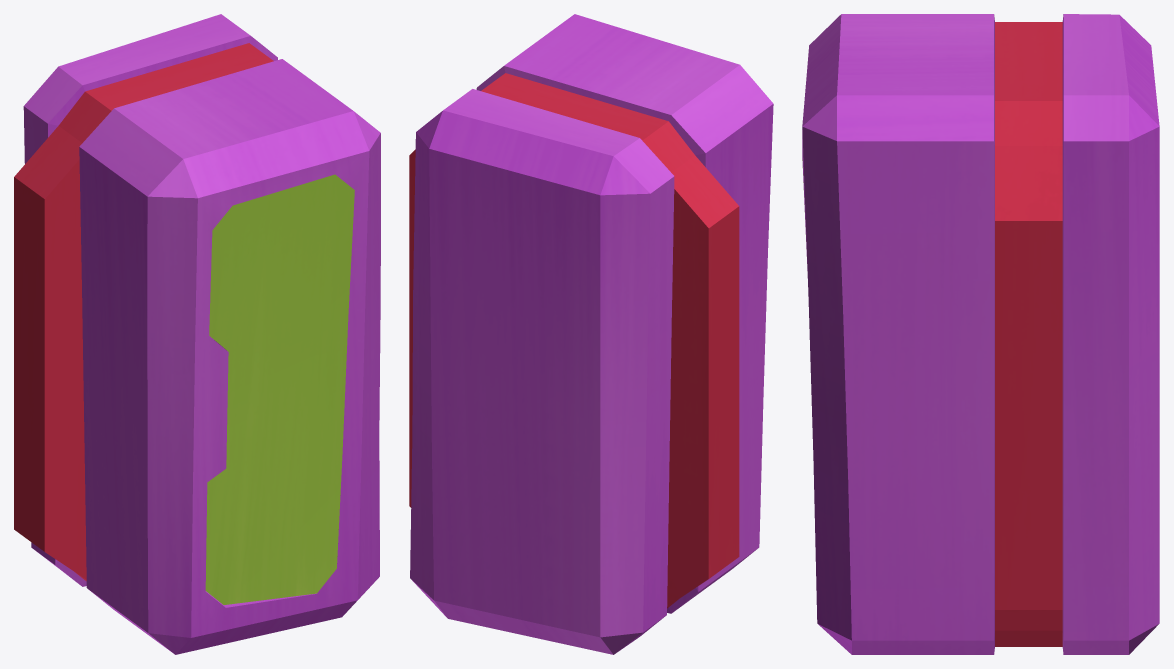
File: Toilet.fbx
3 renders of one model, left to right at view 1: azimuth 30°, elevation 25°; view 2: azimuth 150°, elevation 25°; view 3: azimuth 270°, elevation 25°, orthographic. The views are drawn at different scales.
Parts seen in each view (by area): view 1: Toilet, Toiletdoor; view 2: Toilet; view 3: Toilet.
Part boxes in pixels (x1=…): Toilet: x1=14, y1=14, x2=380, y2=654; Toiletdoor: x1=205, y1=174, x2=354, y2=604; Toilet: x1=409, y1=14, x2=773, y2=654; Toilet: x1=802, y1=14, x2=1159, y2=654.
Bounding box in the file's own units: 138 × 224 × 129.
